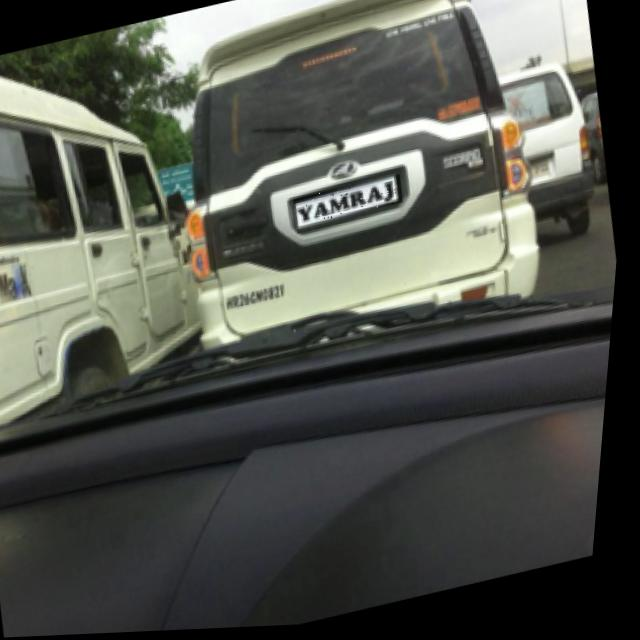license_plate: (295, 178, 409, 231)
